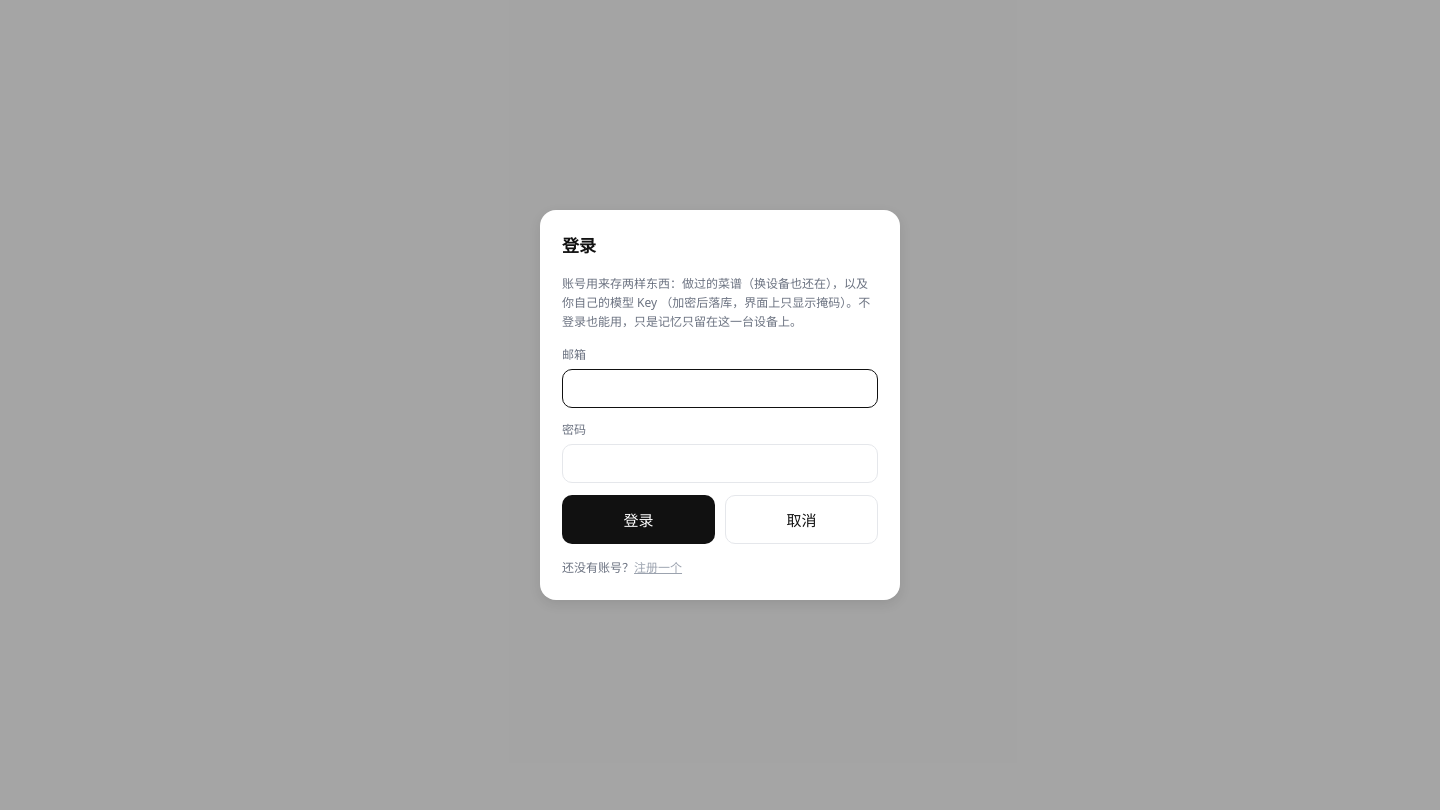
Test: AuthDialog › 注册时密码太短同样在当地拦下
The image size is (1440, 810).
Click the button "注册一个": {"x": 658, "y": 568} [634, 558, 682, 576]
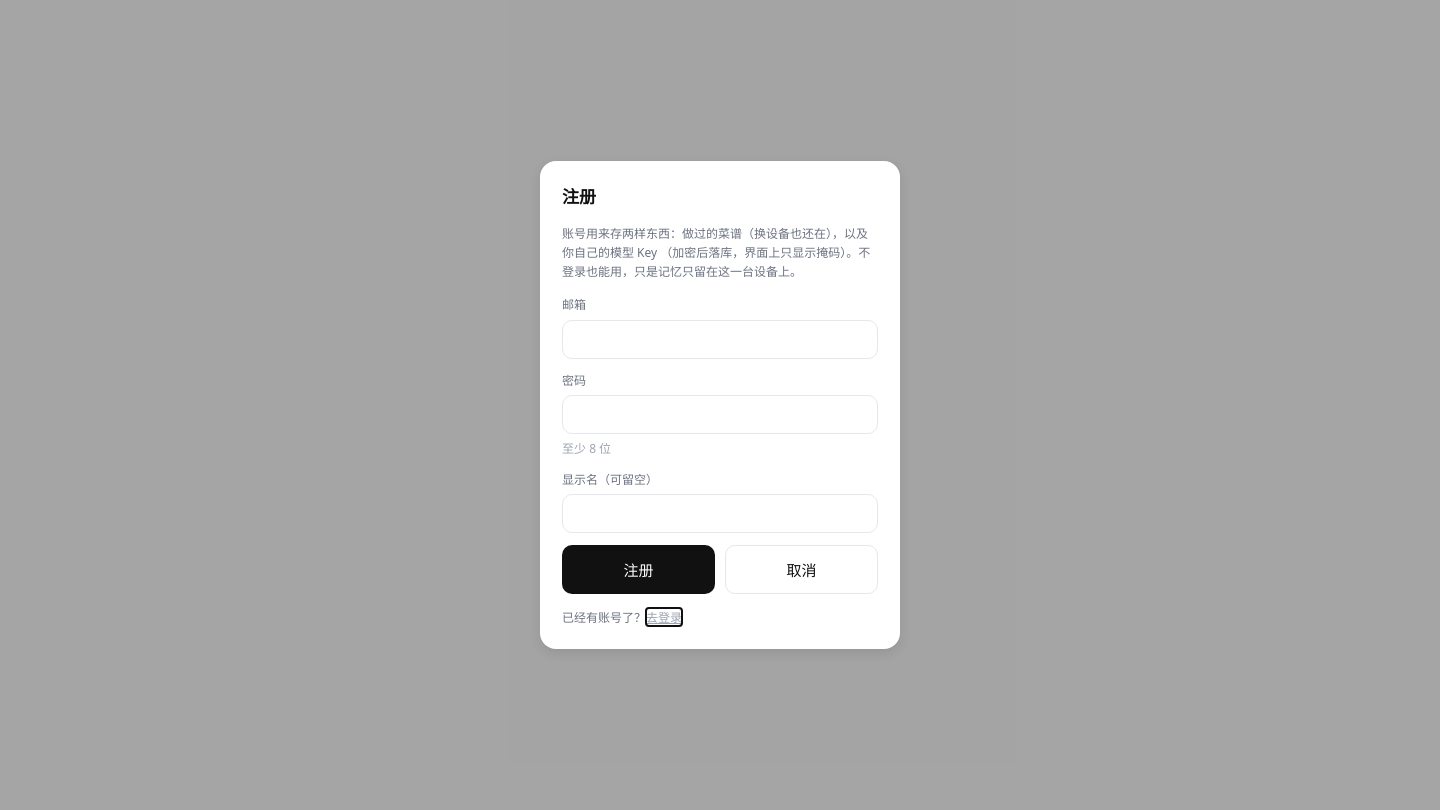
In the field labelled "邮箱": {"x": 720, "y": 339} [562, 320, 878, 359], type "hakura@example.com"
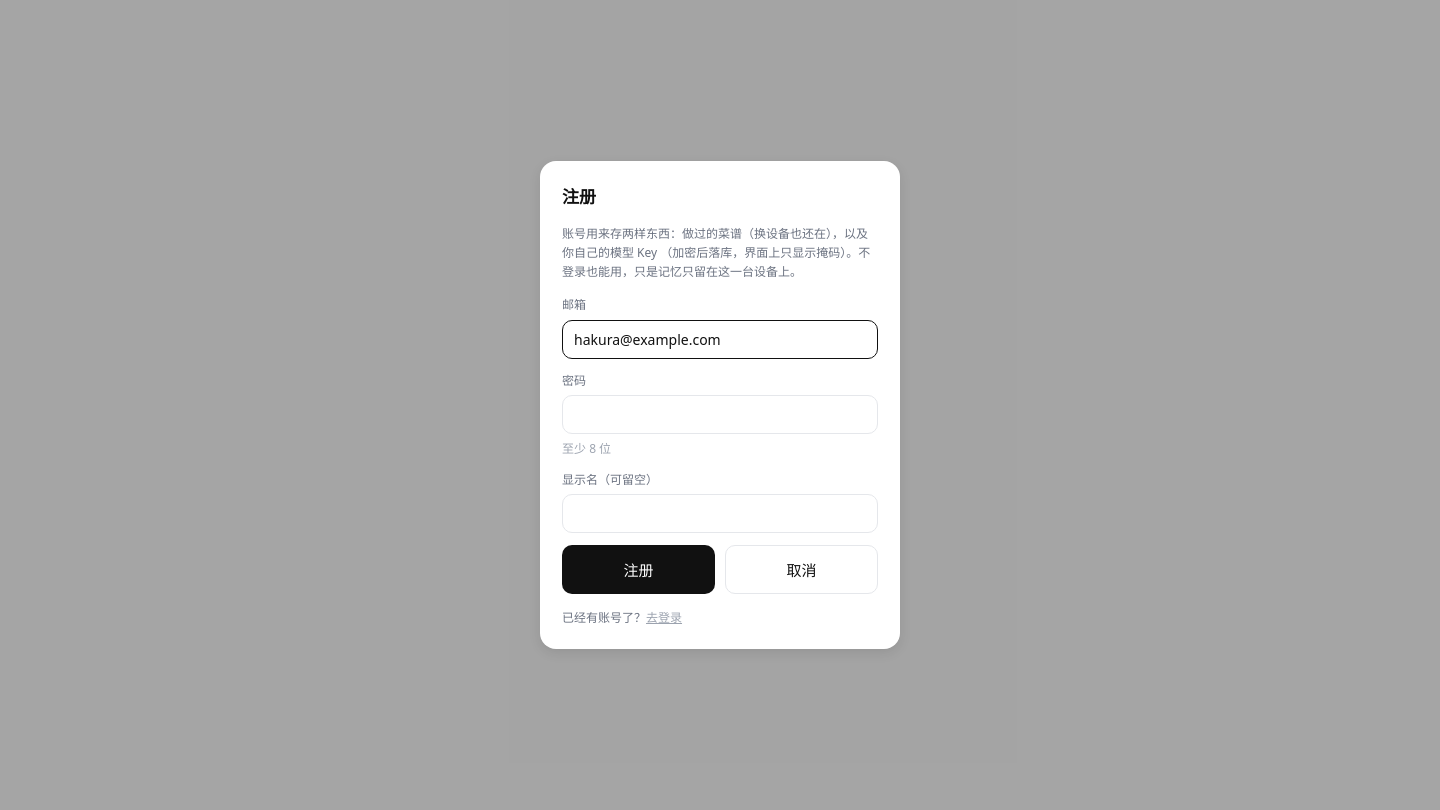
In the password field labelled "密码": {"x": 720, "y": 414} [562, 395, 878, 434], type "1234567"
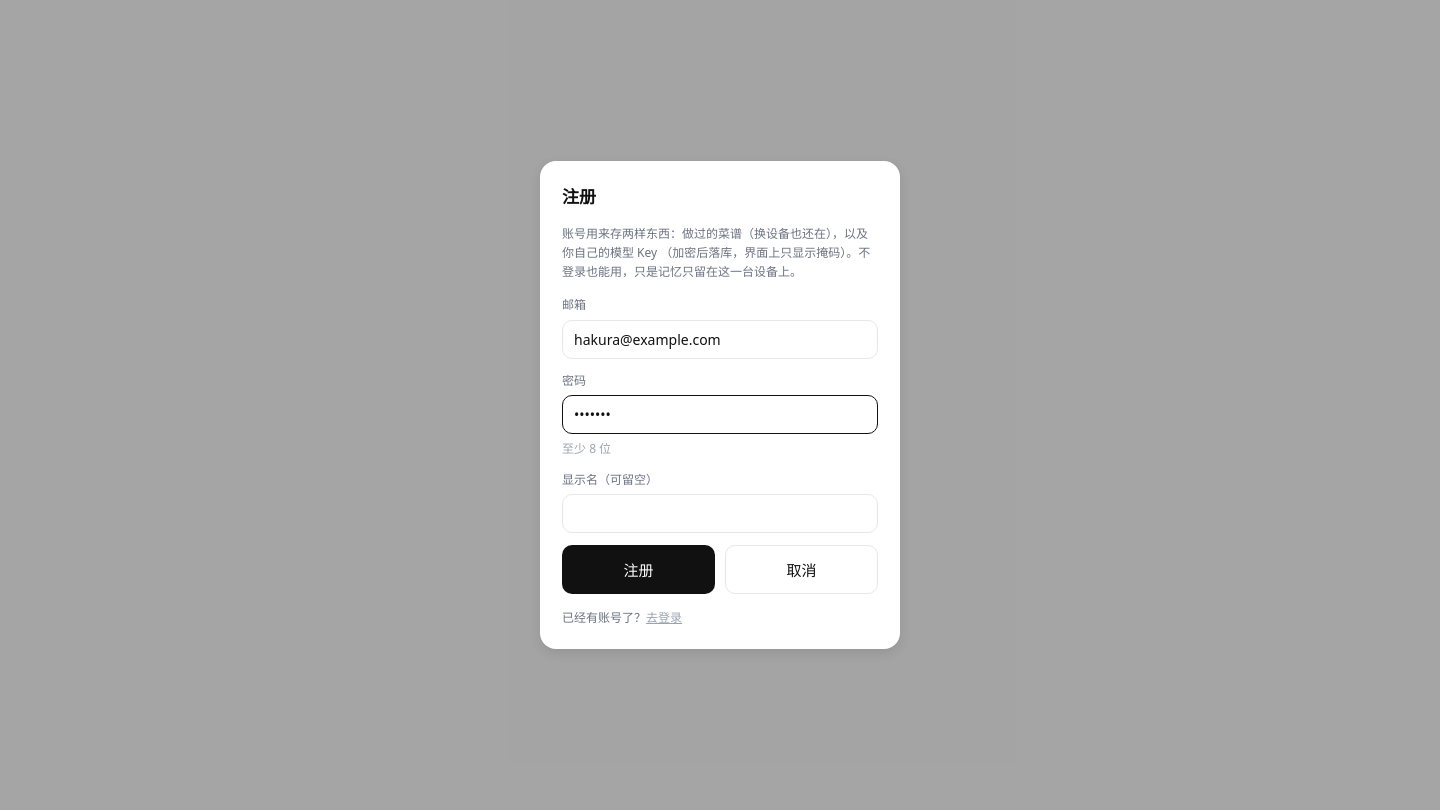
Click the button "注册": {"x": 638, "y": 570} [562, 545, 715, 594]
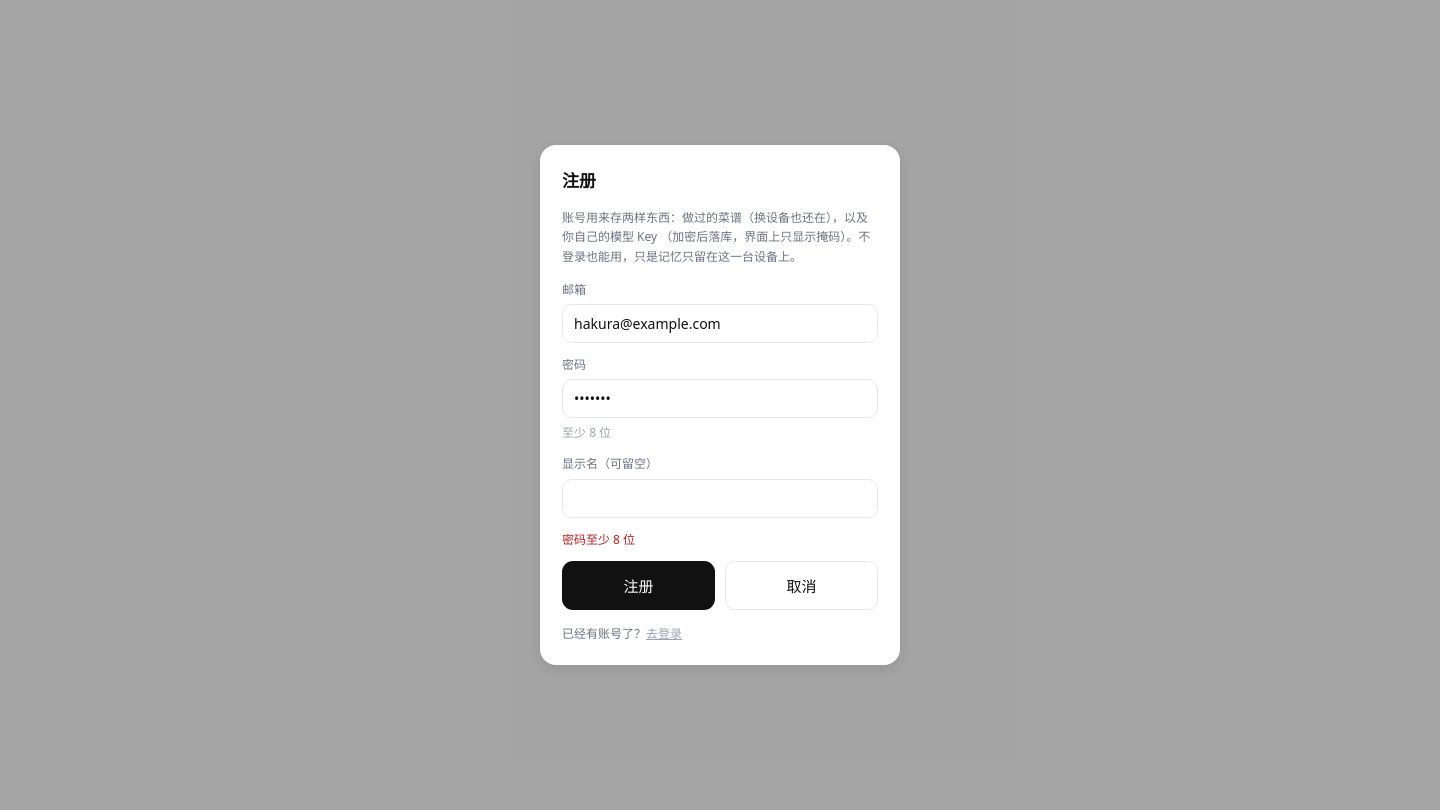
expect the message reads "密码至少 8 位": met, box [562, 531, 635, 548]
